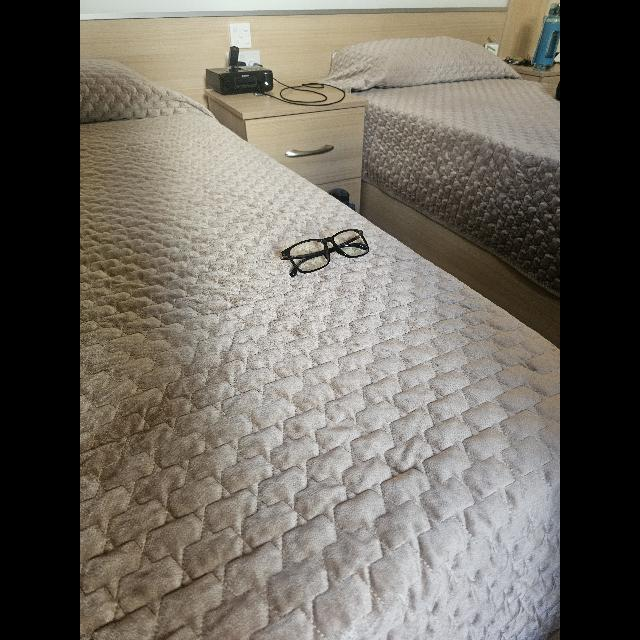glasses: (280, 229, 370, 277)
